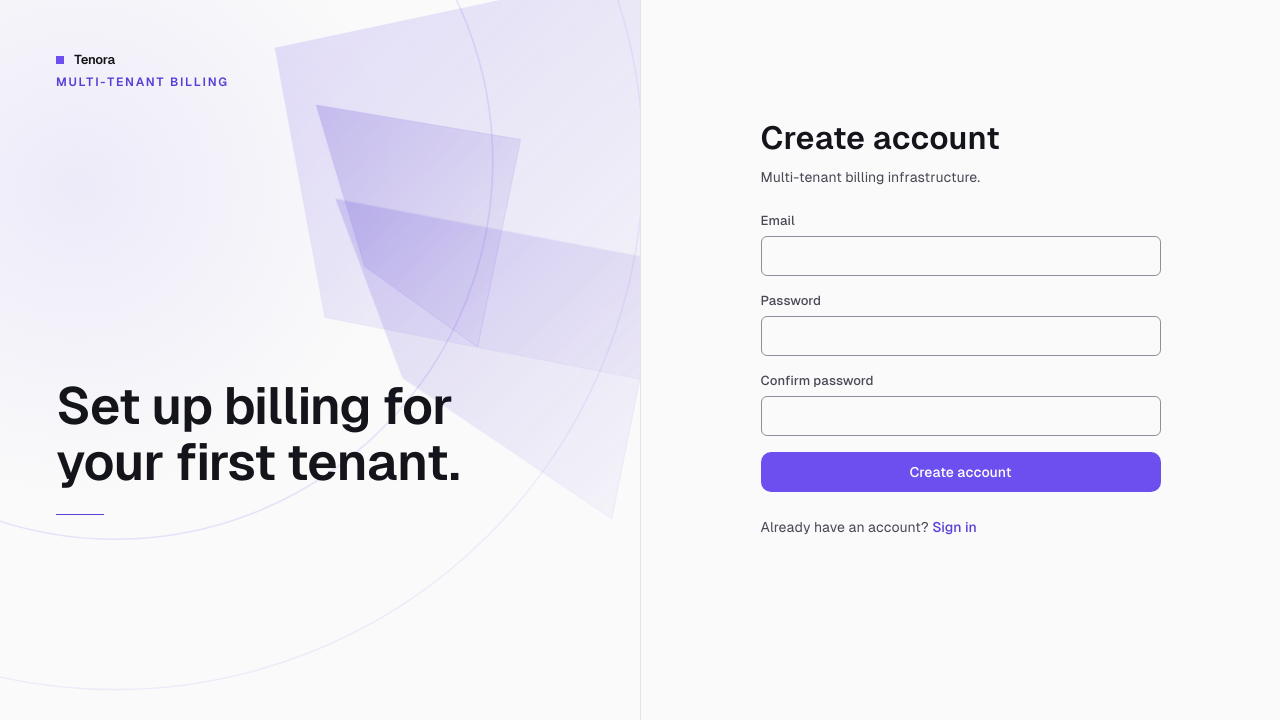
it: RegisterPage › registers and shows a "check your email" confirmation, with no auto-login
Expected: the heading "Create account" is shown, [760, 120, 1000, 156]
Step 1. Type "new@example.com" into the field labelled "Email" → (960, 256), box [760, 236, 1160, 276]
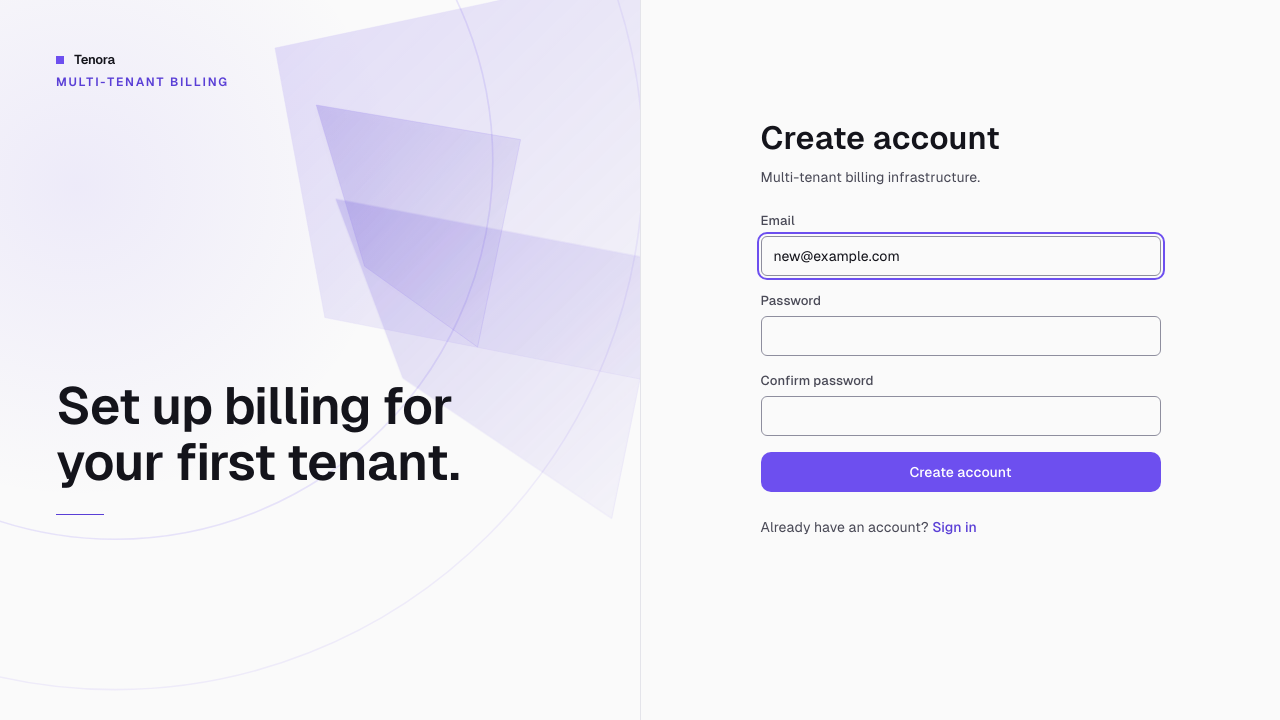
Step 2. Type "correct-horse-staple-42" into the password field labelled "Password" → (960, 336), box [760, 316, 1160, 356]
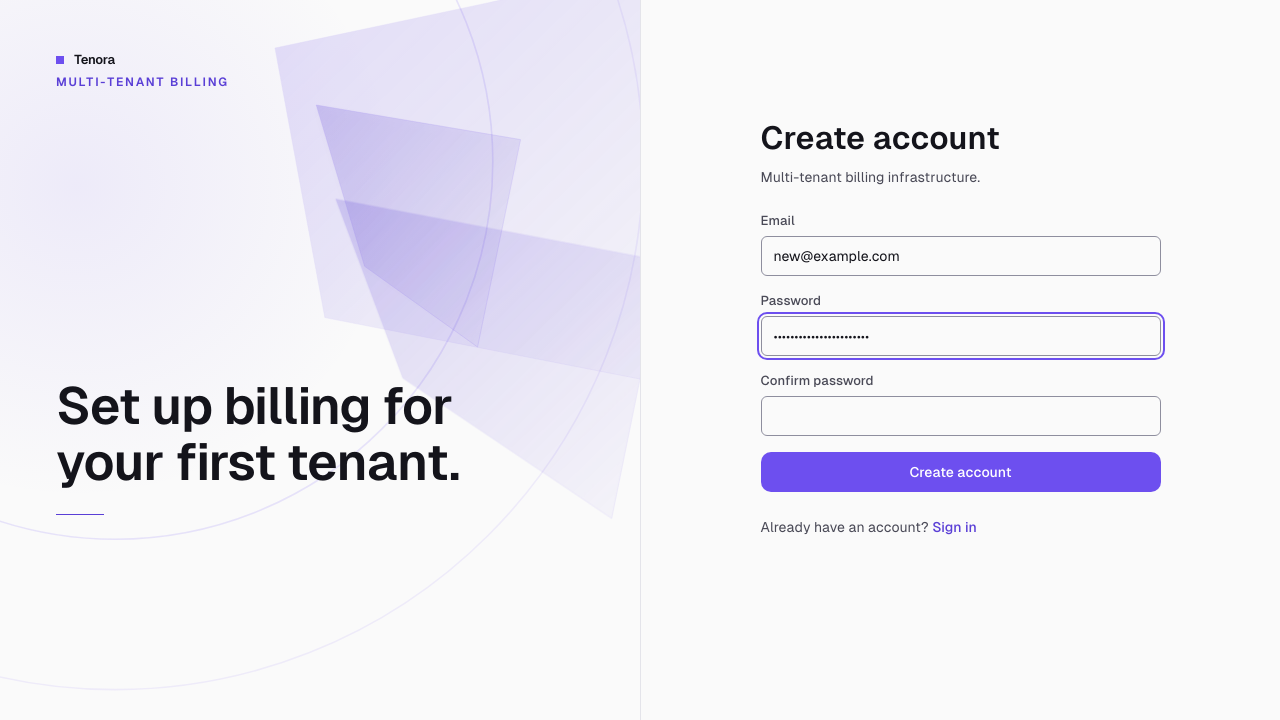
Step 3. Type "correct-horse-staple-42" into the password field labelled "Confirm password" → (960, 416), box [760, 396, 1160, 436]
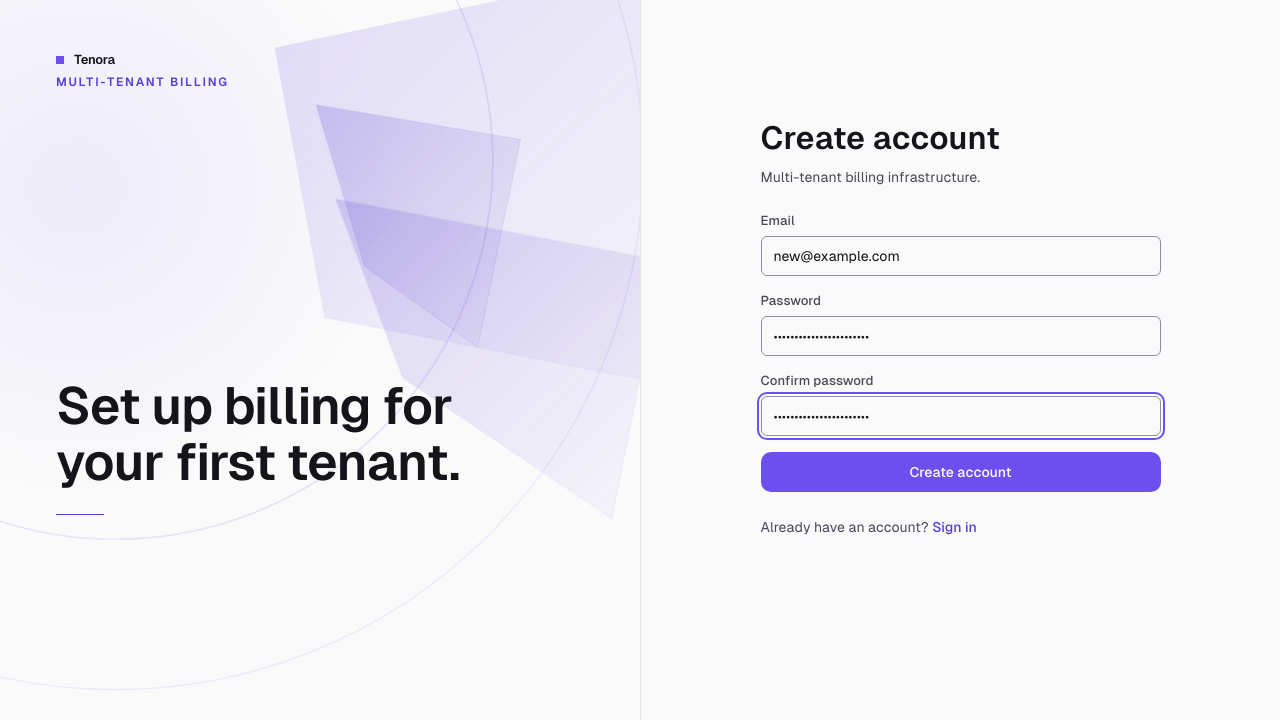
Step 4. Click the button "Create account" → click(960, 472), box [760, 452, 1160, 492]
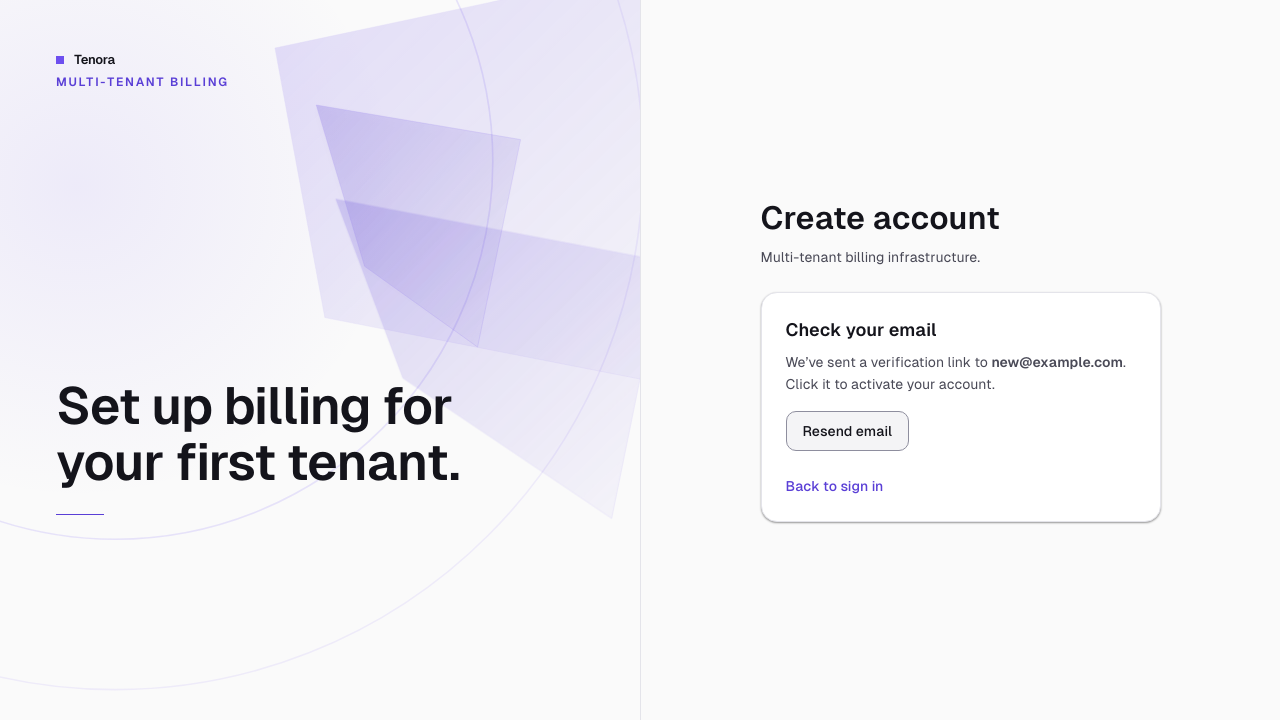
Result: the heading "Check your email" is shown at [786, 319, 937, 340]
Result: the text "new@example.com" is shown at [991, 354, 1123, 370]
